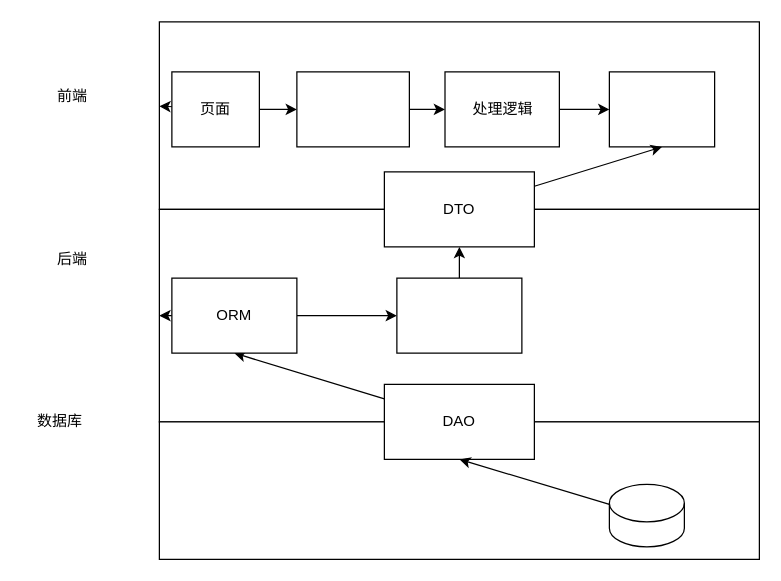
The diagram is 781 pixels wide and 581 high, and some of its shapes have lost their labels. Each missing label, with the box of its shape:
后端处理逻辑: (396, 277, 522, 353)
后端返回的数据: (608, 71, 715, 147)
要渲染的数据: (296, 71, 409, 147)
